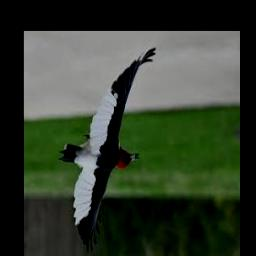Woodpecker: (59, 47, 155, 252)
